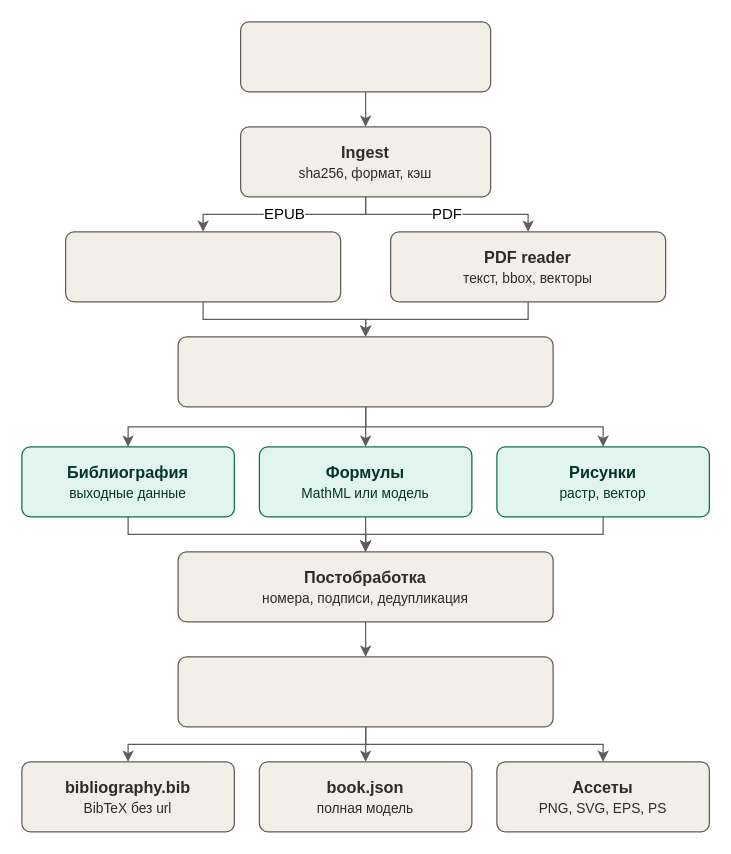
Some shapes in this 731 by 854 pixel diagram are drawn without their labels. Here are the shapes that lost their labels. From the top down, the centre of each, then its label:
At [365,56]: "Файл книги .epub / .pdf".
At [202,266]: "EPUB reader zip + OPF + XHTML".
At [365,371]: "BookIR + структура блоки, TOC, страницы".
At [365,691]: "Валидация и экспорт pydantic + review.md".
